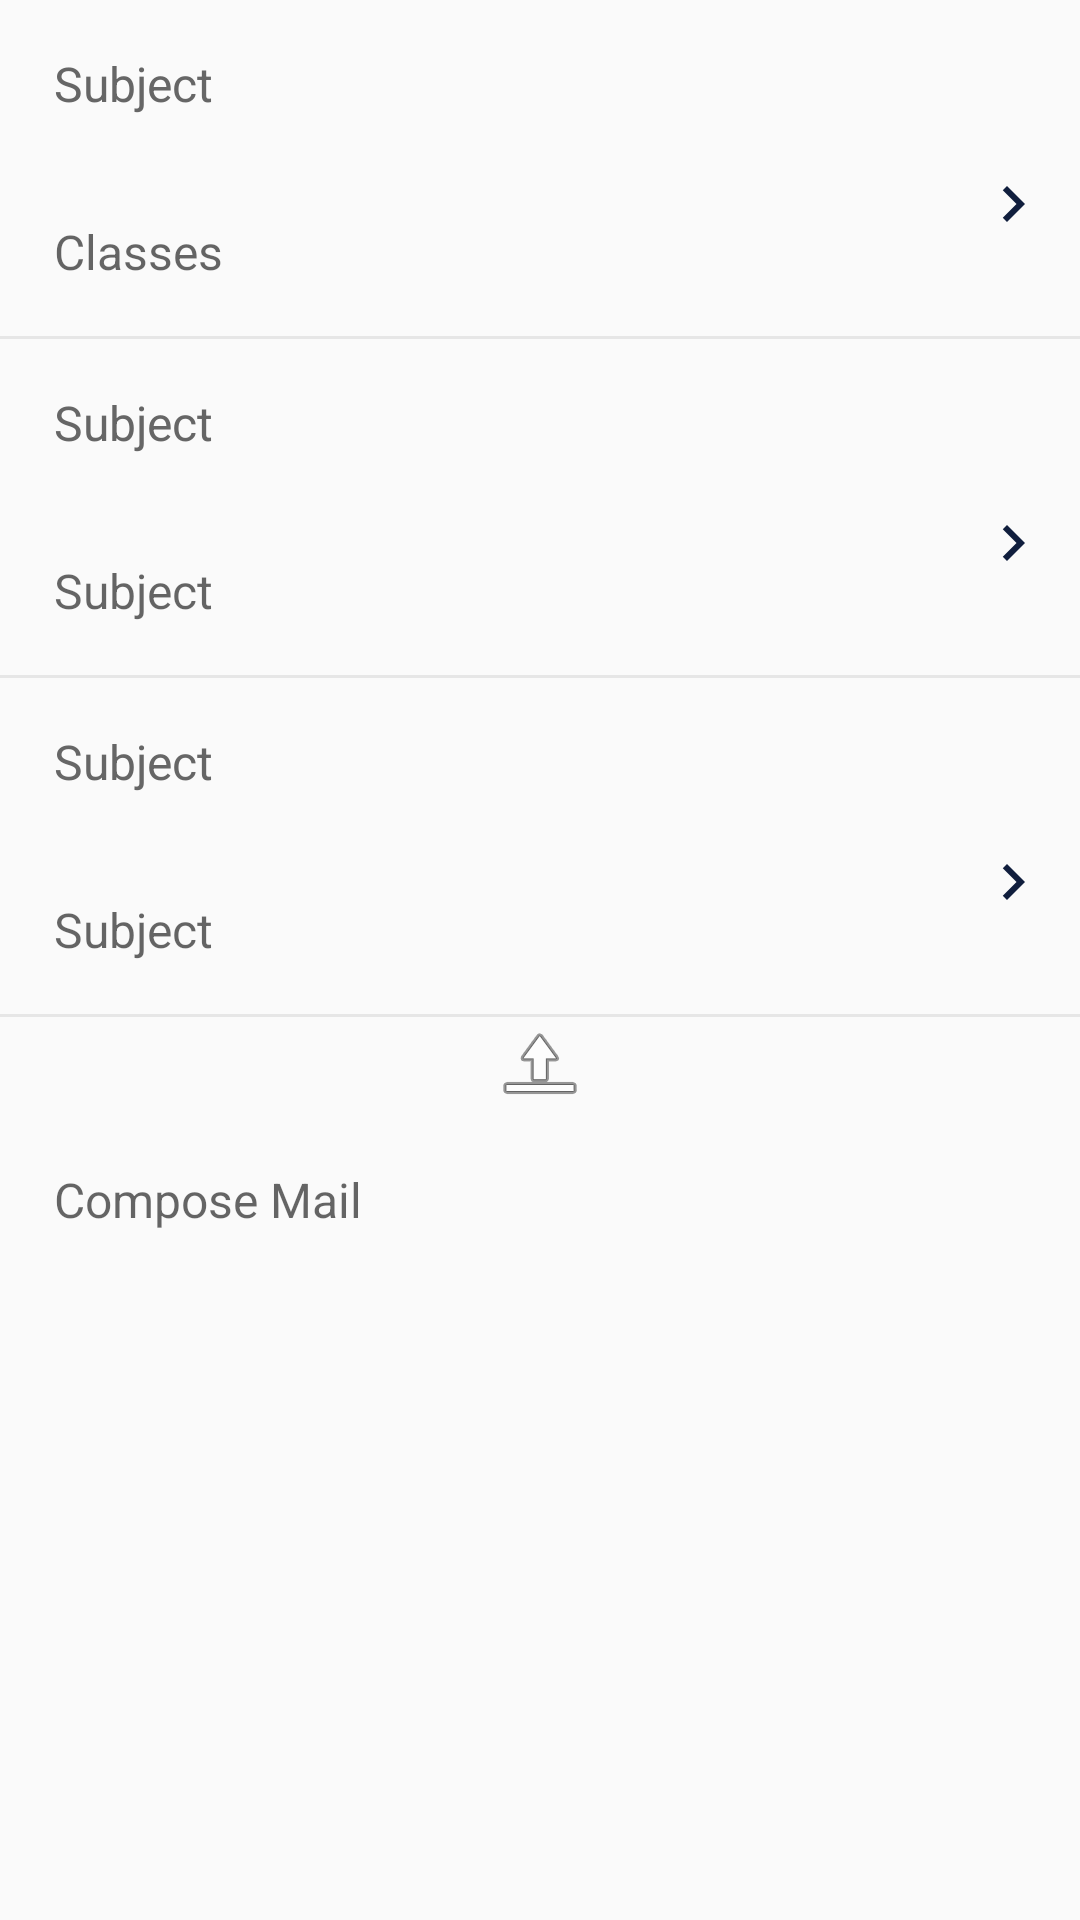

Icons on this 1080px×1920px Android screen, each with the point to tap as (x=x, y=y):
navigate next: (x=1014, y=204), (x=1014, y=543), (x=1014, y=882)
upload: (x=540, y=1063)
